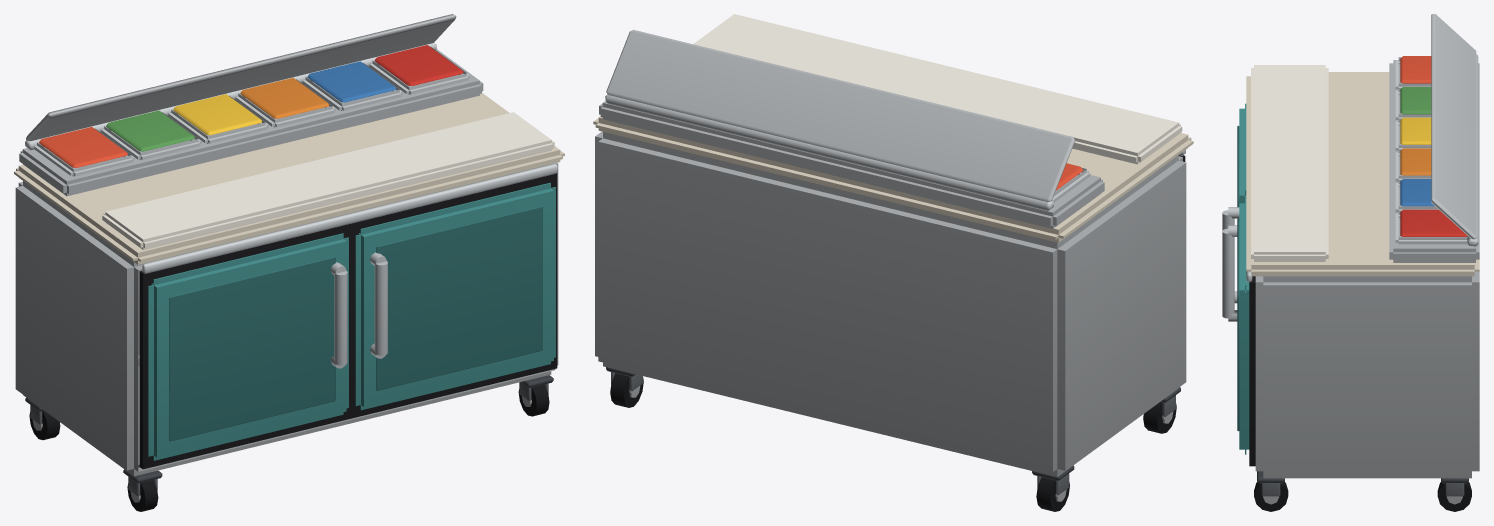
The model's file is SM_PrepTable_Sandwich_15.glb.
The picture shows the model from 3 angles, left to right: view 1: azimuth 30°, elevation 25°; view 2: azimuth 150°, elevation 25°; view 3: azimuth 270°, elevation 25°; orthographic projection. The views are drawn at different scales.
Visible parts, largest first — view 1: SM_PrepTable_Sandwich_15; view 2: SM_PrepTable_Sandwich_15; view 3: SM_PrepTable_Sandwich_15.
Part boxes in pixels (<box>): SM_PrepTable_Sandwich_15: <box>14,14,564,511</box>; SM_PrepTable_Sandwich_15: <box>593,14,1193,511</box>; SM_PrepTable_Sandwich_15: <box>1222,14,1479,511</box>.
Size of the model in its own units: 1.5 by 1.11 by 0.827.
Materials: 1 (1 with a texture image).
